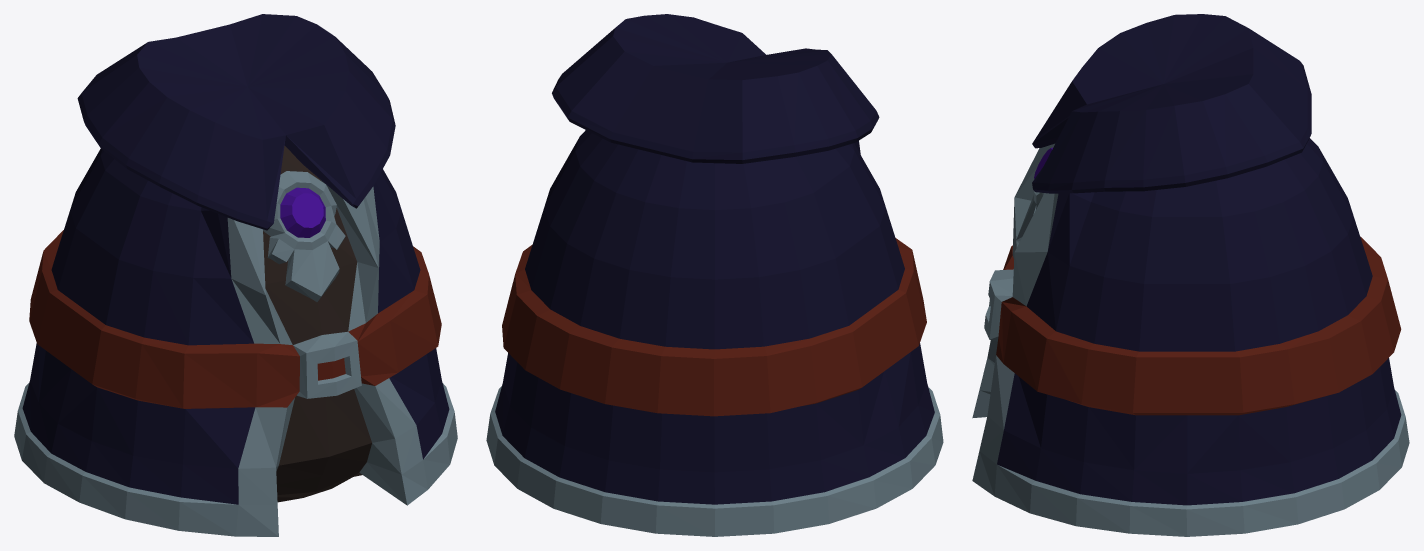
Rendered from character_mageBody.obj.
3 renders of one model, left to right at view 1: azimuth 30°, elevation 25°; view 2: azimuth 150°, elevation 25°; view 3: azimuth 270°, elevation 25°, orthographic. The views are drawn at different scales.
Visible parts, largest first — view 1: character_mageBody_Cube.008; view 2: character_mageBody_Cube.008; view 3: character_mageBody_Cube.008.
Boxes of the visible parts, box(x1,y1,x2,y2) form: character_mageBody_Cube.008: box(14, 14, 457, 536); character_mageBody_Cube.008: box(486, 14, 943, 536); character_mageBody_Cube.008: box(972, 14, 1409, 536).
Size of the model in its own units: 0.8104 by 0.8039 by 0.7966.
